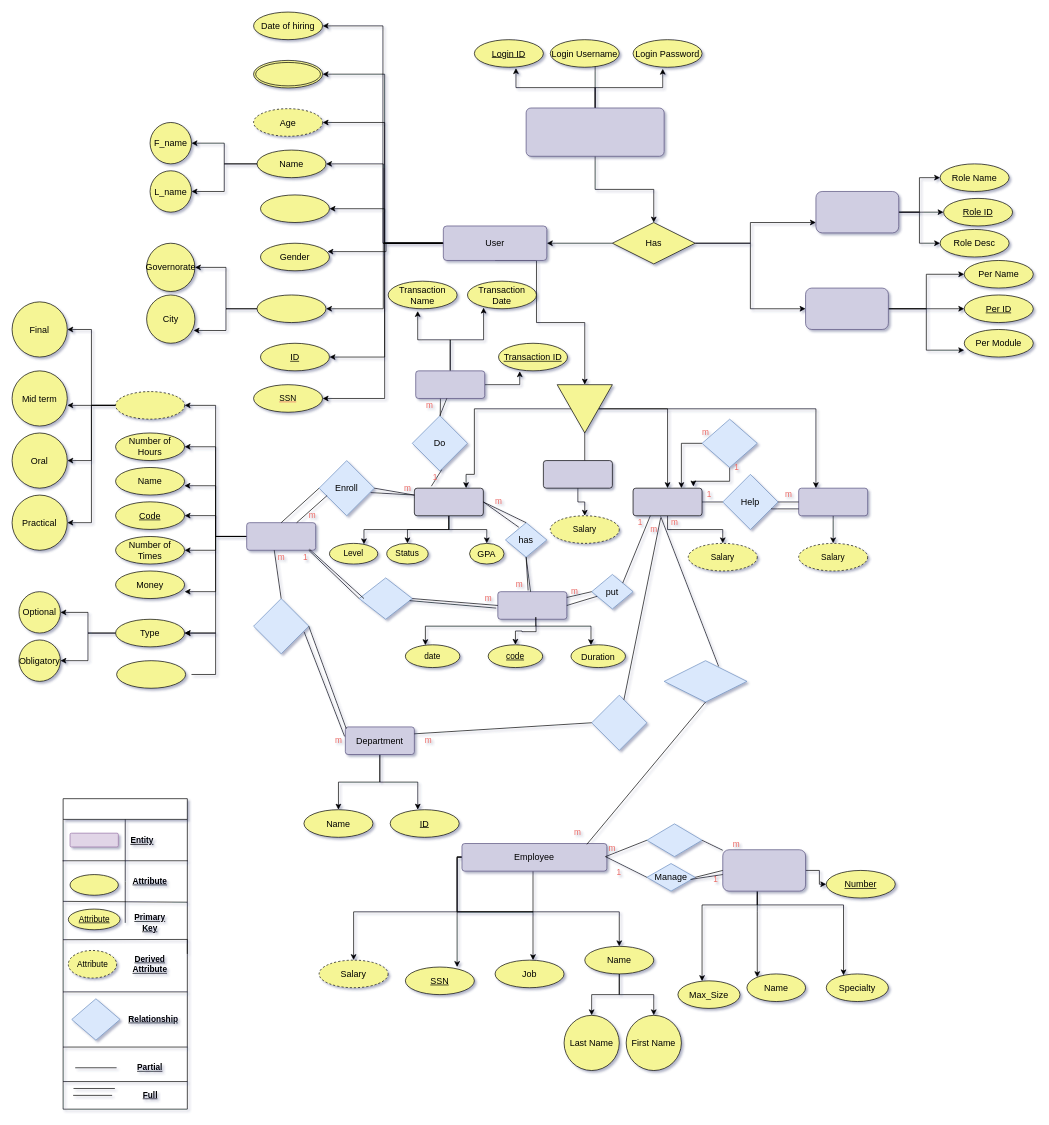
Image size: 1049x1125. Some labels were removed from this diagram. The box of each missing label's shape, as (x1, y1, x2, y2) in pixels:
Address: (256, 294, 326, 323)
Admin(IT): (543, 460, 612, 488)
Contain: (253, 598, 309, 654)
Course: (246, 522, 316, 550)
Degree: (115, 391, 185, 419)
Depends on: (358, 577, 412, 619)
Doctor: (632, 487, 702, 516)
Email: (260, 194, 329, 223)
Exam: (497, 591, 567, 619)
Handle: (663, 660, 747, 702)
IS a: (556, 384, 612, 433)
Login: (525, 107, 664, 156)
Mange: (701, 418, 757, 467)
Permission: (805, 287, 888, 329)
Phone: (253, 60, 323, 88)
Places (Library-Labs,...): (722, 849, 806, 891)
Prerequisite: (116, 660, 186, 688)
Role: (815, 191, 899, 233)
Student: (414, 487, 483, 516)
Table: (62, 798, 187, 1109)
Teach: (591, 694, 647, 750)
Teaching Assistant: (798, 487, 868, 516)
Transactions: (415, 370, 485, 398)
work: (646, 823, 702, 857)
